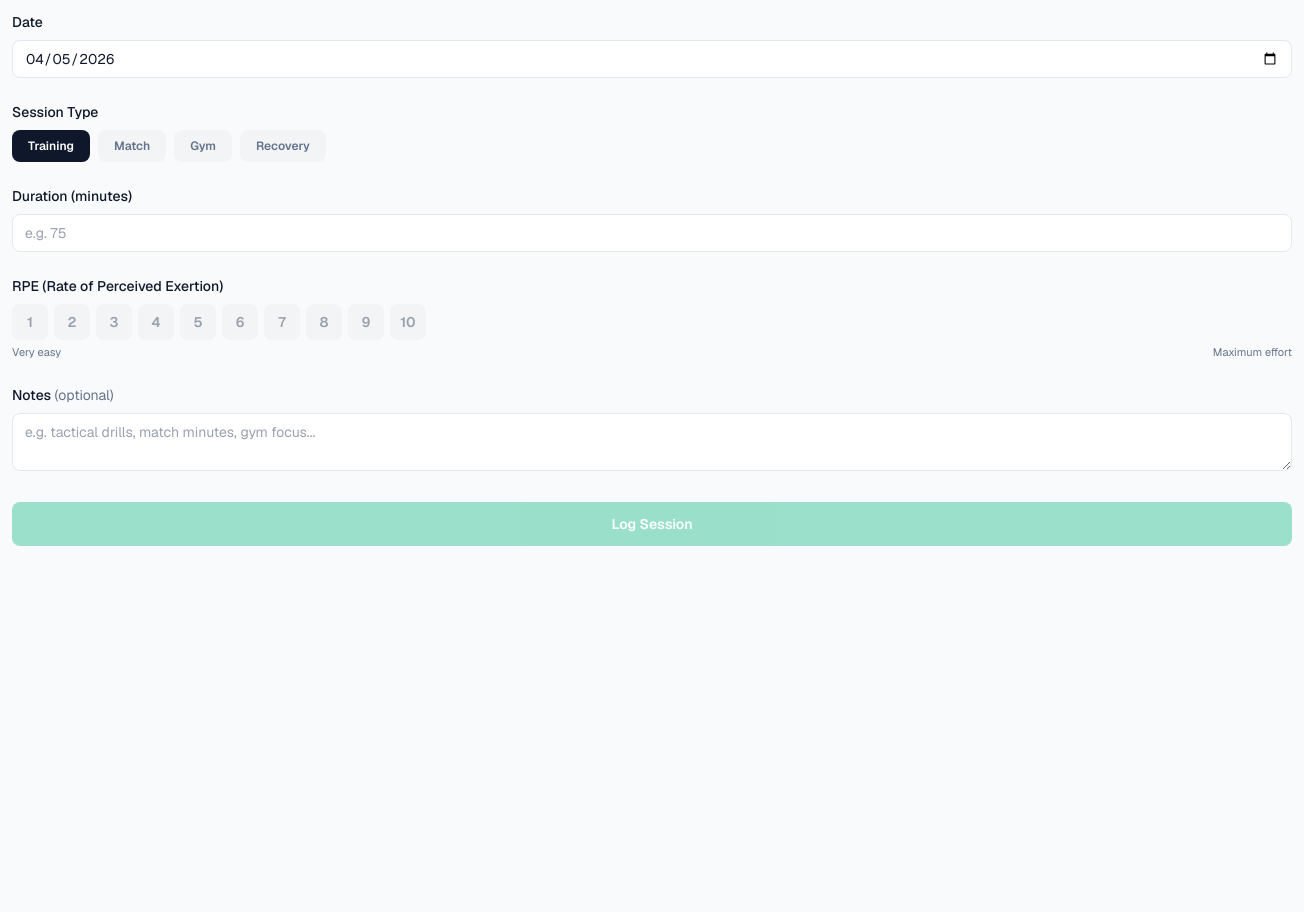
SessionForm submit flow › shows validation errors from the API on 400
The image size is (1304, 912).
Type "75" into the number field labelled "Duration (minutes)".
click(652, 233); type("75")  # box [12, 214, 1292, 252]
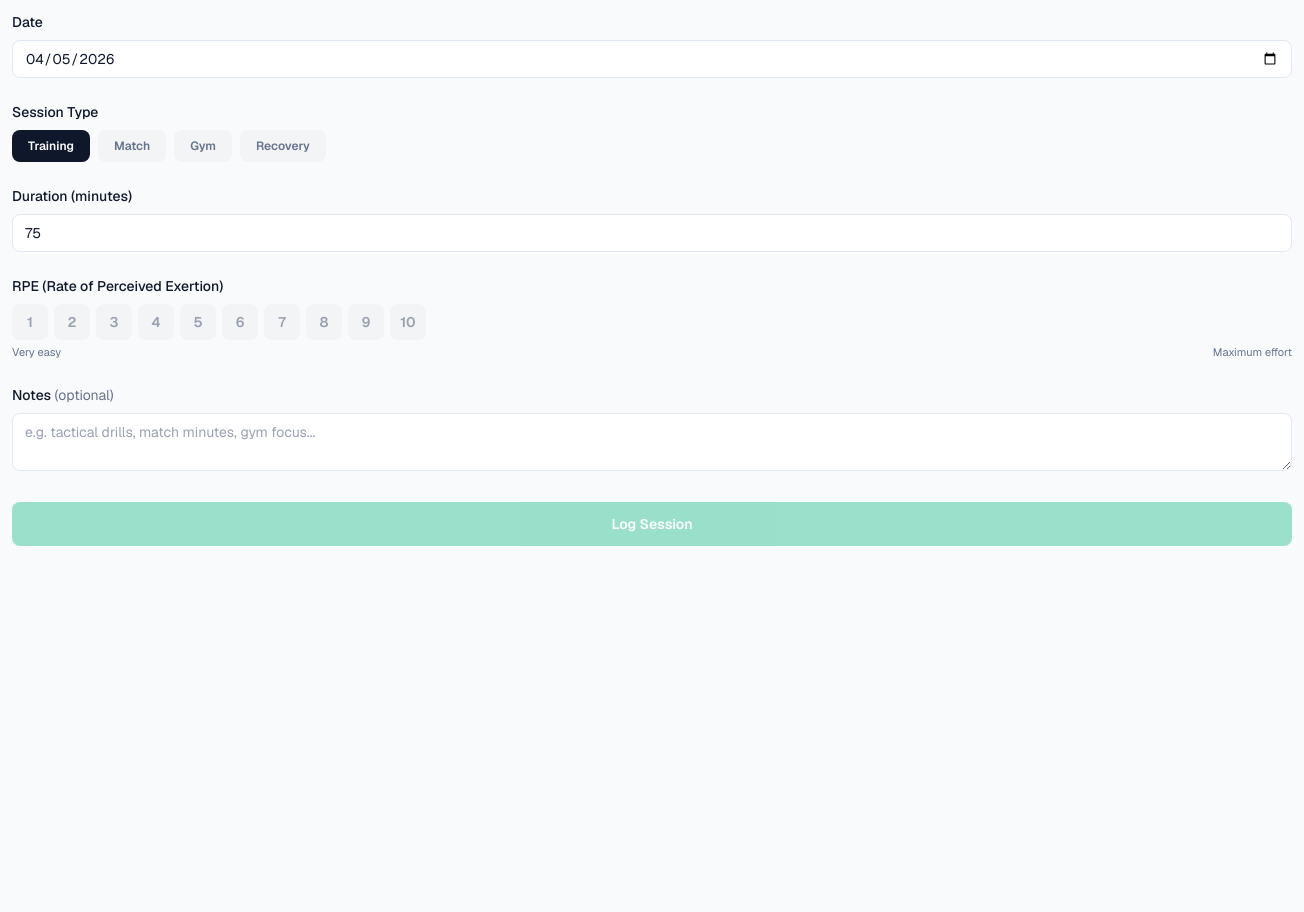
Click the button "6".
click(240, 322)  # box [222, 304, 258, 340]
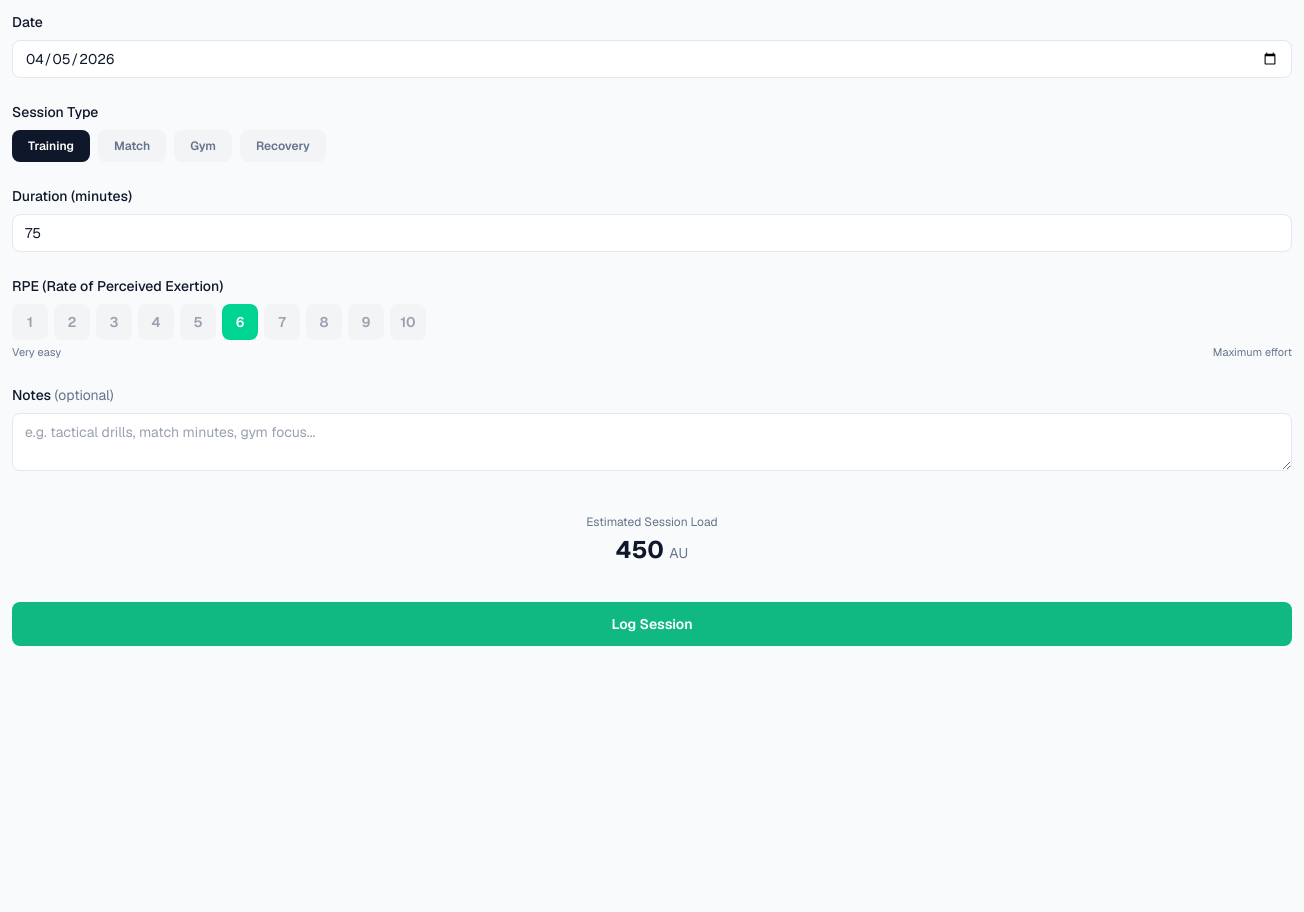
Click the button "Log Session".
click(652, 624)  # box [12, 602, 1292, 646]
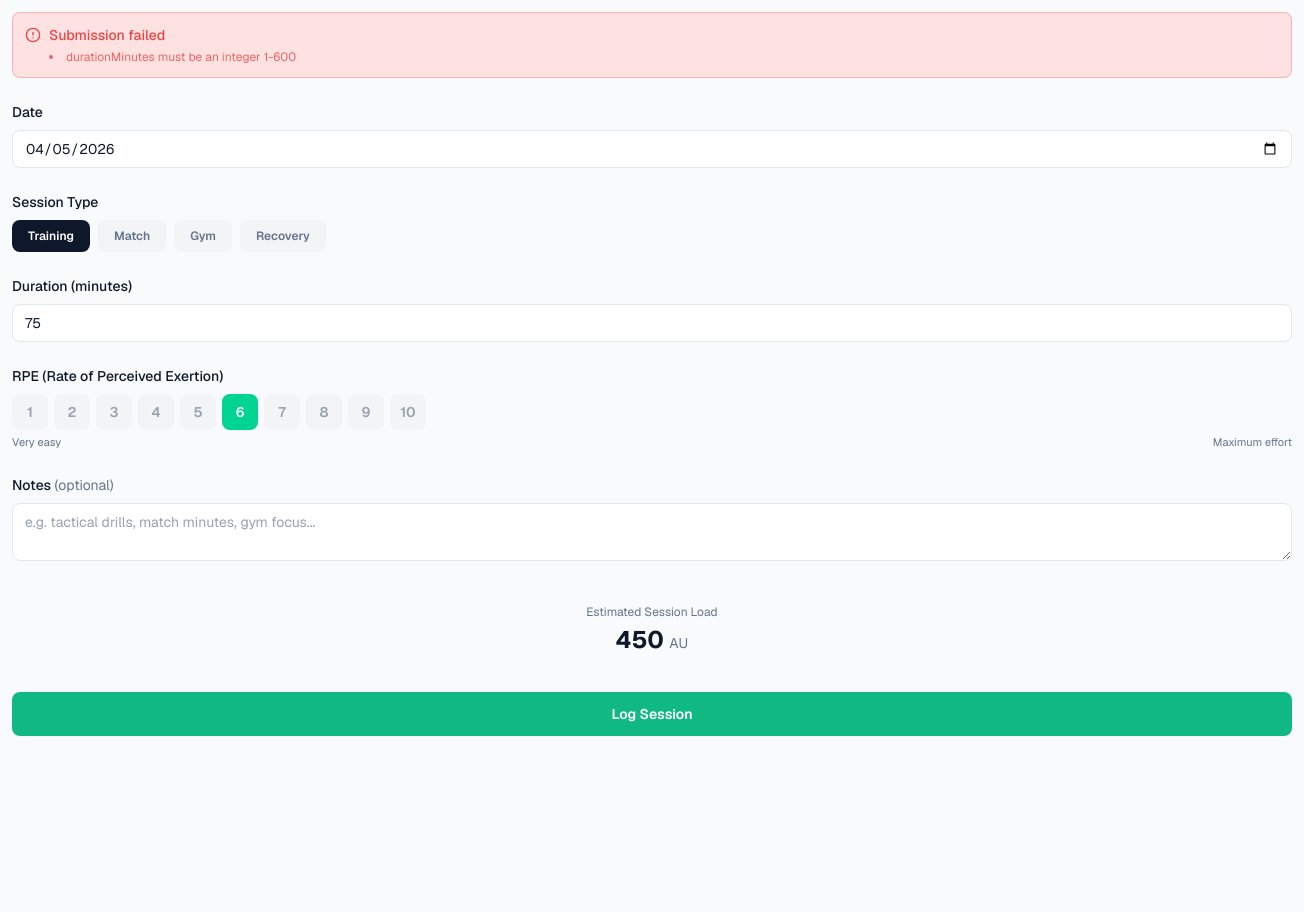
Expected: the button "Log Session" is shown, [12, 692, 1292, 736]
Result: the text "Submission failed" is shown at [49, 26, 165, 44]
Result: the list item "durationMinutes must be an integer 1-600" is shown at [49, 49, 296, 65]
